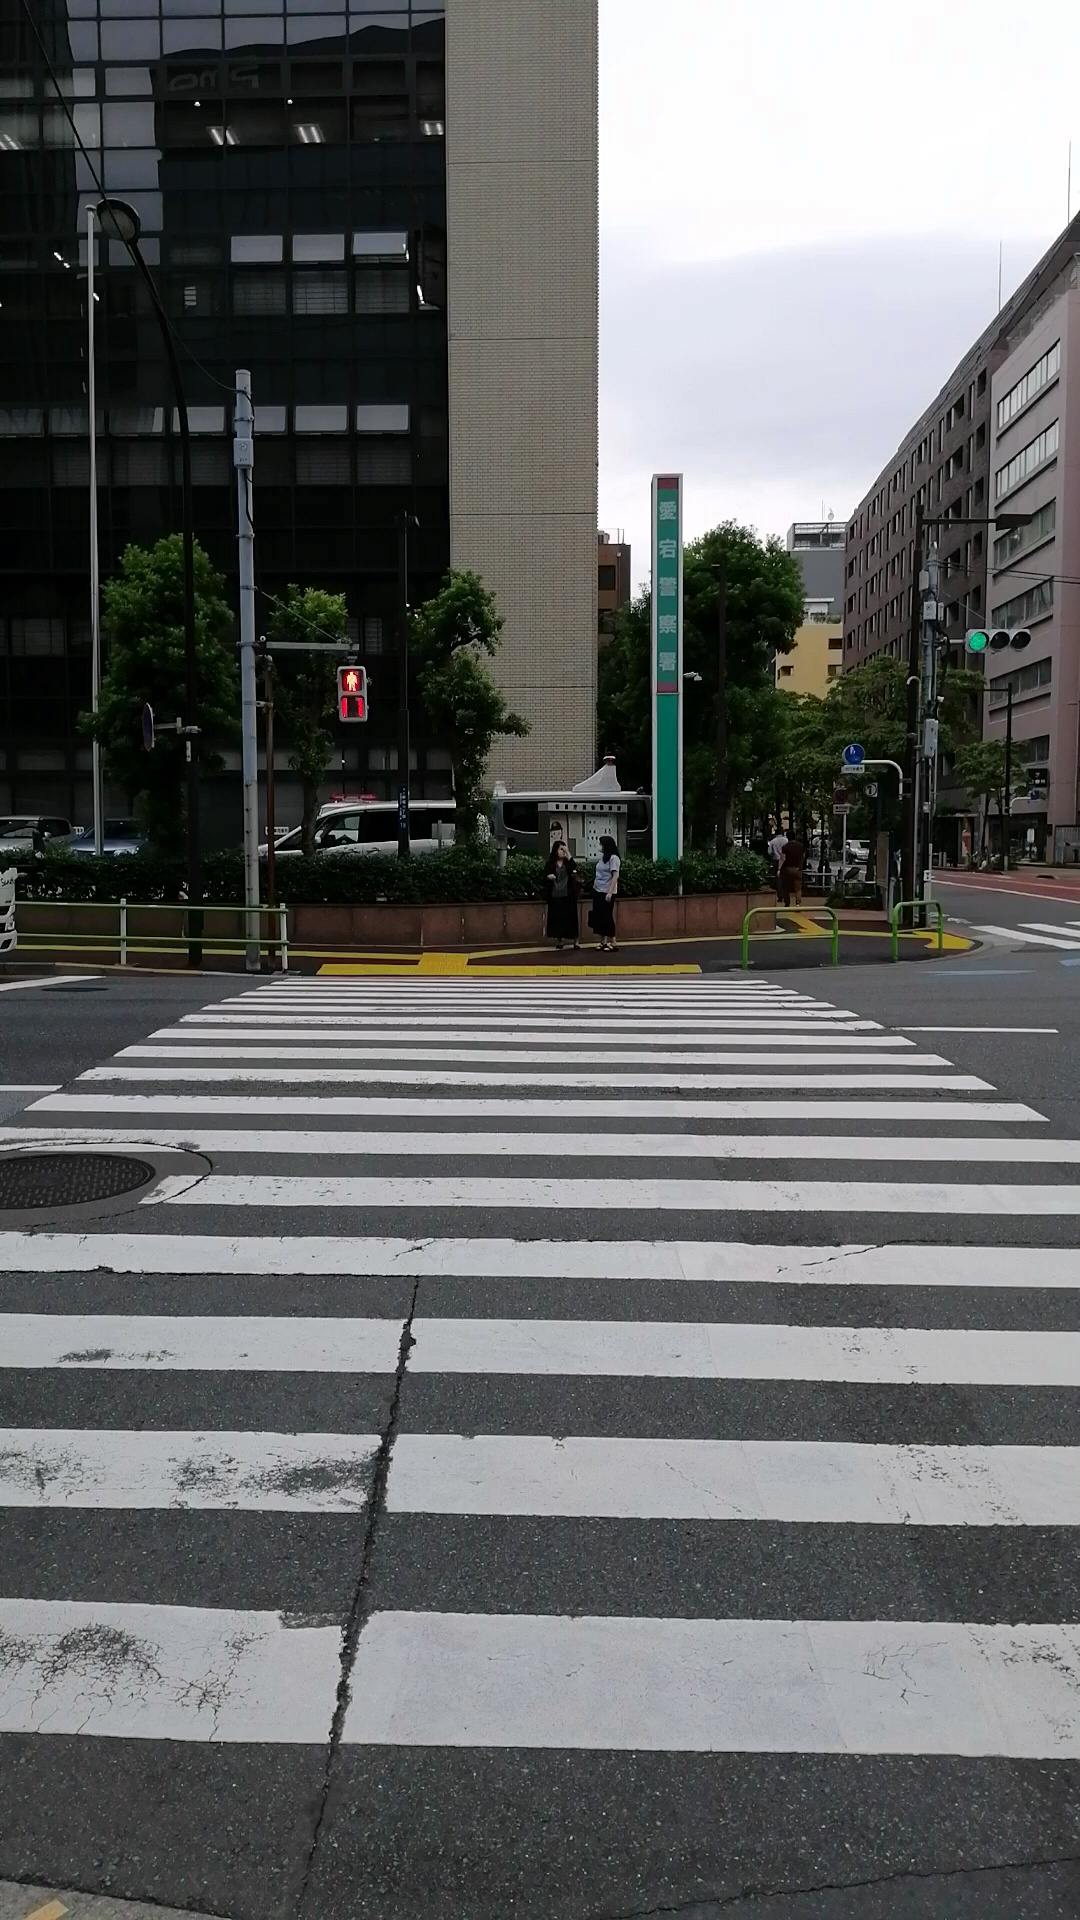red: (334, 662, 368, 724)
